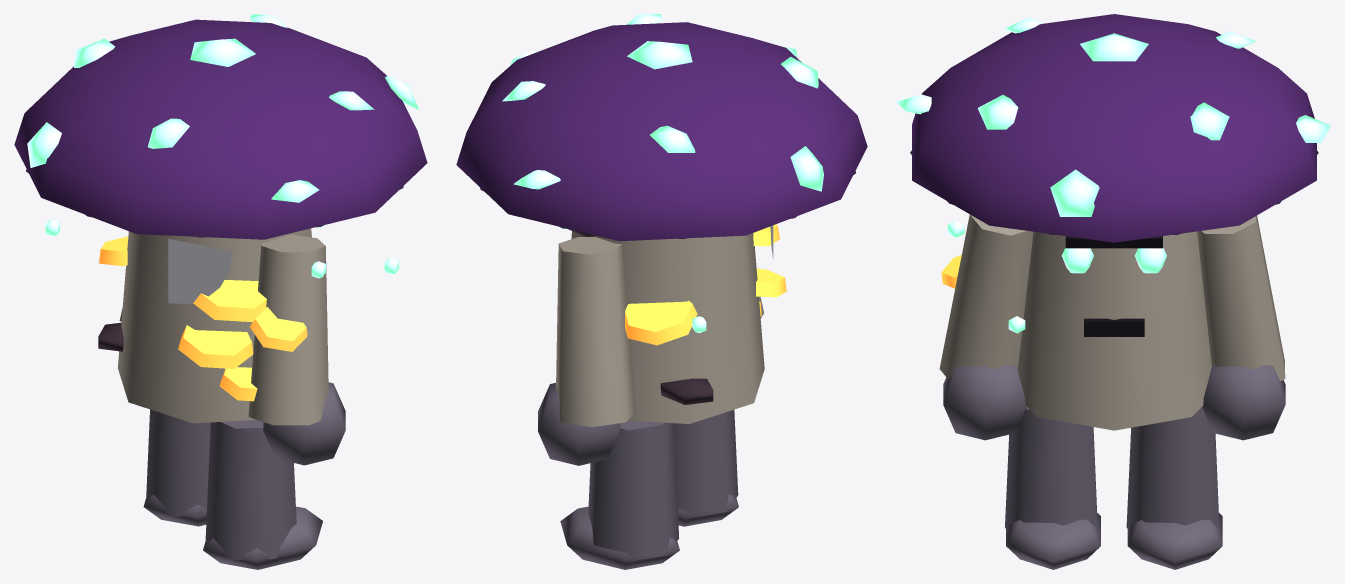
Rendered from enemy_mushroomColossus.glb.
3 renders of one model, left to right at view 1: azimuth 30°, elevation 25°; view 2: azimuth 150°, elevation 25°; view 3: azimuth 270°, elevation 25°, orthographic. The views are drawn at different scales.
Visible parts, largest first — view 1: cap, trunk, arm_r_mesh, leg_r_mesh, leg_l_mesh, arm_r_fist, web, leg_r_foot, bracket_1, bracket_0, arm_r_bracket, cap_dot_0 (+9 smaller); view 2: cap, trunk, arm_l_mesh, leg_l_mesh, leg_r_mesh, arm_l_fist, bracket_3, leg_l_foot, cap_dot_0, moss_0, cap_dot_7, cap_dot_3 (+4 smaller); view 3: cap, trunk, arm_r_mesh, arm_l_mesh, leg_l_mesh, leg_r_mesh, arm_r_fist, arm_l_fist, leg_l_foot, leg_r_foot, cap_dot_5, cap_dot_0 (+7 smaller).
Part boxes in pixels (x1,y1,x2,y2): cap: [14, 19, 427, 239]; trunk: [118, 228, 311, 423]; arm_r_mesh: [248, 234, 328, 425]; leg_r_mesh: [205, 420, 296, 559]; leg_l_mesh: [146, 409, 210, 516]; arm_r_fist: [263, 382, 345, 465]; web: [168, 238, 232, 303]; leg_r_foot: [203, 506, 322, 569]; bracket_1: [178, 325, 253, 368]; bracket_0: [193, 280, 266, 322]; arm_r_bracket: [249, 307, 307, 351]; cap_dot_0: [190, 38, 255, 66]; cap: [456, 22, 867, 241]; trunk: [571, 231, 764, 423]; arm_l_mesh: [556, 237, 635, 426]; leg_l_mesh: [588, 420, 679, 561]; leg_r_mesh: [674, 410, 738, 517]; arm_l_fist: [538, 383, 619, 465]; bracket_3: [625, 300, 697, 345]; leg_l_foot: [560, 506, 679, 569]; cap_dot_0: [627, 41, 692, 69]; moss_0: [660, 378, 713, 404]; cap_dot_7: [790, 146, 823, 191]; cap_dot_3: [650, 125, 695, 152]; cap: [912, 14, 1316, 242]; trunk: [1017, 231, 1211, 430]; arm_r_mesh: [939, 214, 1033, 379]; arm_l_mesh: [1197, 215, 1285, 381]; leg_l_mesh: [1126, 407, 1218, 528]; leg_r_mesh: [1005, 407, 1096, 528]; arm_r_fist: [943, 364, 1026, 440]; arm_l_fist: [1202, 365, 1285, 440]; leg_l_foot: [1127, 513, 1222, 569]; leg_r_foot: [1006, 513, 1100, 569]; cap_dot_5: [1050, 169, 1099, 216]; cap_dot_0: [1080, 33, 1148, 61].
Bounding box in the file's own units: 0.35 × 0.4663 × 0.3574.
